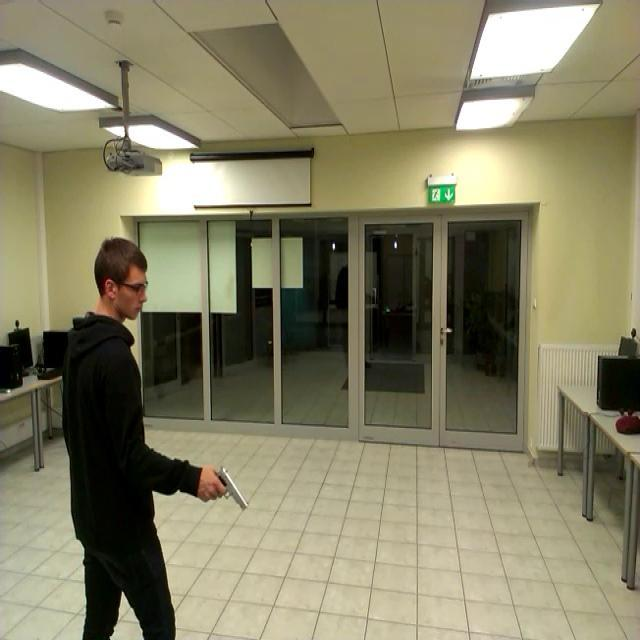Gun: (196, 452, 262, 528)
